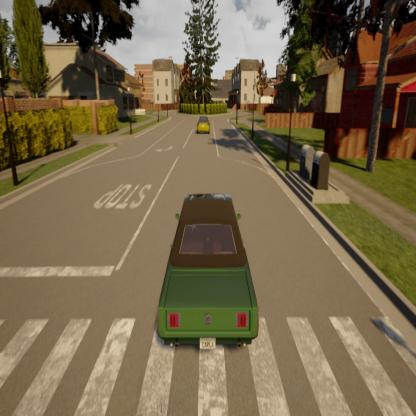Cars: (152, 189, 261, 356), (195, 112, 212, 138)
